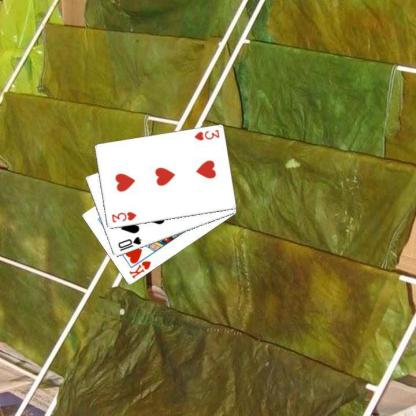10S: (115, 234, 143, 252)
3H: (109, 209, 138, 224), (191, 127, 220, 142)
KH: (126, 258, 152, 280)
